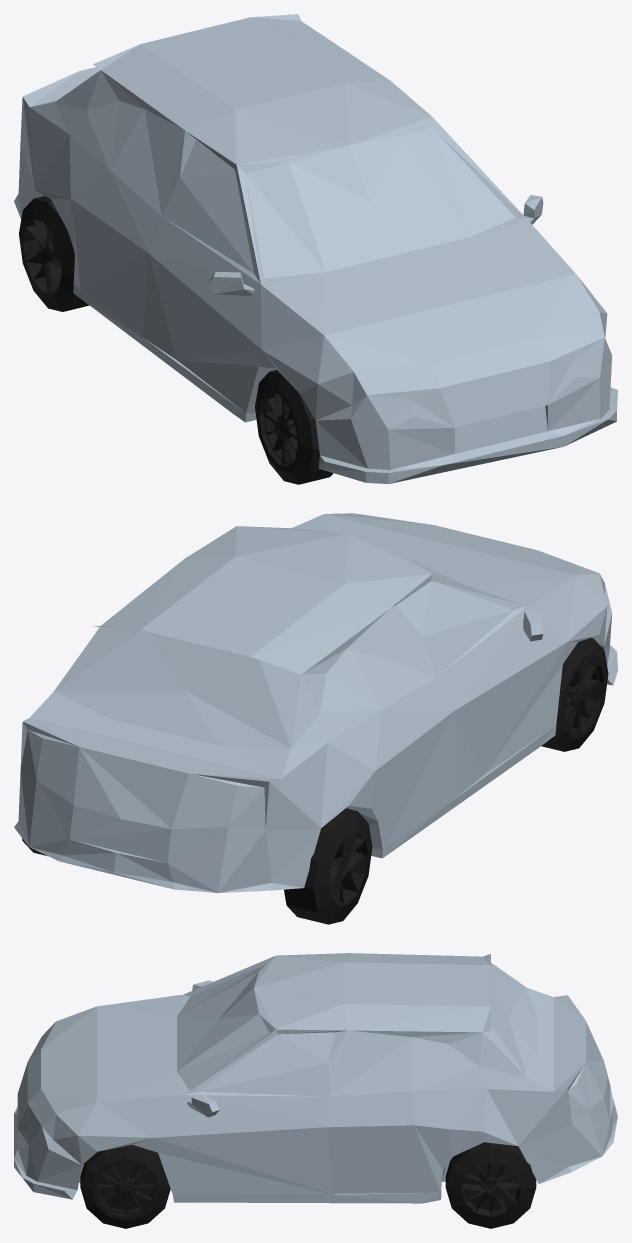
File: NormalCar2.glb
The picture shows the model from 3 angles, top to bottom: view 1: azimuth 30°, elevation 25°; view 2: azimuth 150°, elevation 25°; view 3: azimuth 270°, elevation 25°; orthographic projection. The views are drawn at different scales.
Visible parts, largest first — view 1: NormalCar2_Cube.002, NormalCar2_FrontRightWheel_Cylinder.016, NormalCar2_BackWheels_Cylinder.003; view 2: NormalCar2_Cube.002, NormalCar2_BackWheels_Cylinder.003, NormalCar2_FrontRightWheel_Cylinder.016; view 3: NormalCar2_Cube.002, NormalCar2_BackWheels_Cylinder.003, NormalCar2_FrontLeftWheel_Cylinder.015.
Part boxes in pixels (<box>): NormalCar2_Cube.002: <box>14,14,617,483</box>; NormalCar2_FrontRightWheel_Cylinder.016: <box>255,369,333,484</box>; NormalCar2_BackWheels_Cylinder.003: <box>19,196,89,311</box>; NormalCar2_Cube.002: <box>14,513,617,893</box>; NormalCar2_BackWheels_Cylinder.003: <box>22,808,372,924</box>; NormalCar2_FrontRightWheel_Cylinder.016: <box>541,638,608,751</box>; NormalCar2_Cube.002: <box>14,953,617,1203</box>; NormalCar2_BackWheels_Cylinder.003: <box>445,1142,536,1228</box>; NormalCar2_FrontLeftWheel_Cylinder.015: <box>80,1145,170,1228</box>.
Bounding box in the file's own units: 1.64 × 1.15 × 3.3.
